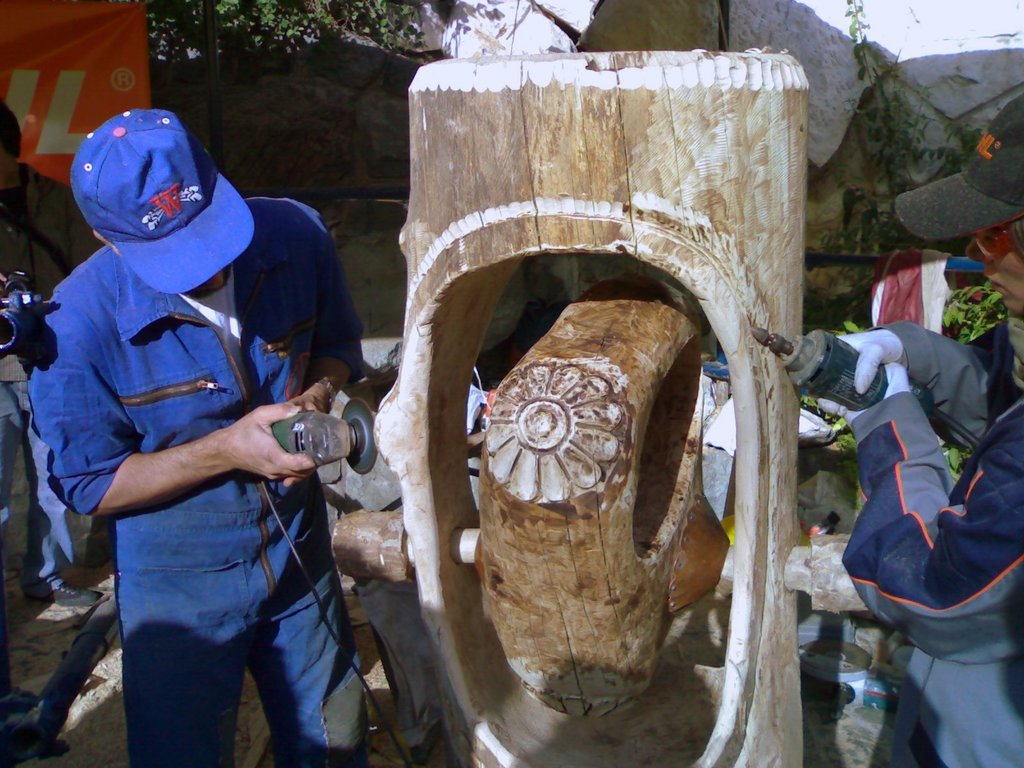Tree: (150, 0, 465, 176)
